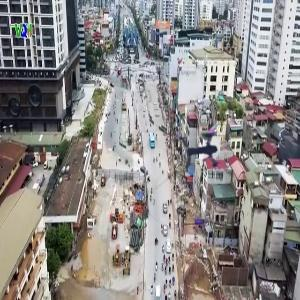drone: (179, 121, 238, 180)
